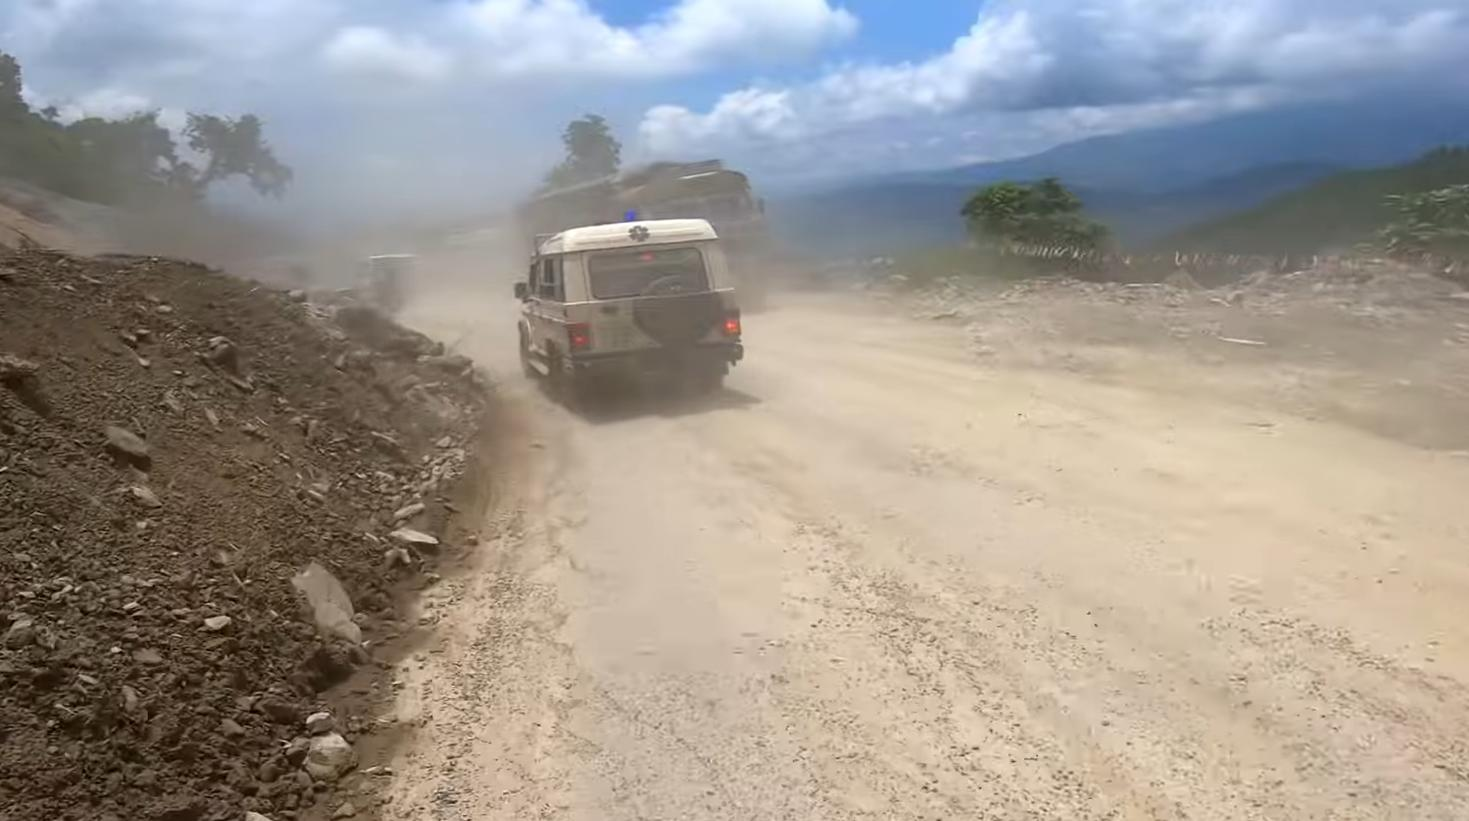ambulance: (513, 206, 748, 414)
